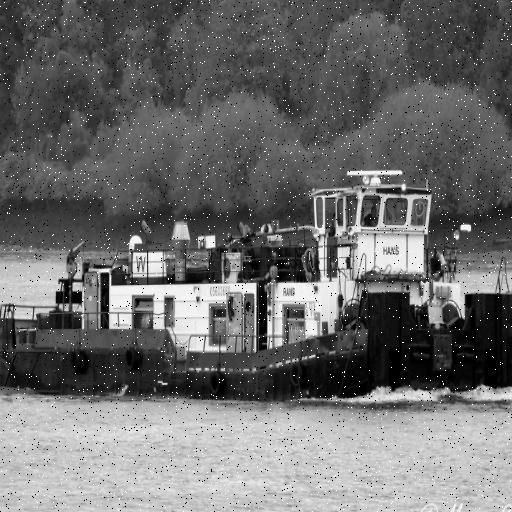tugboat: (1, 163, 512, 414)
